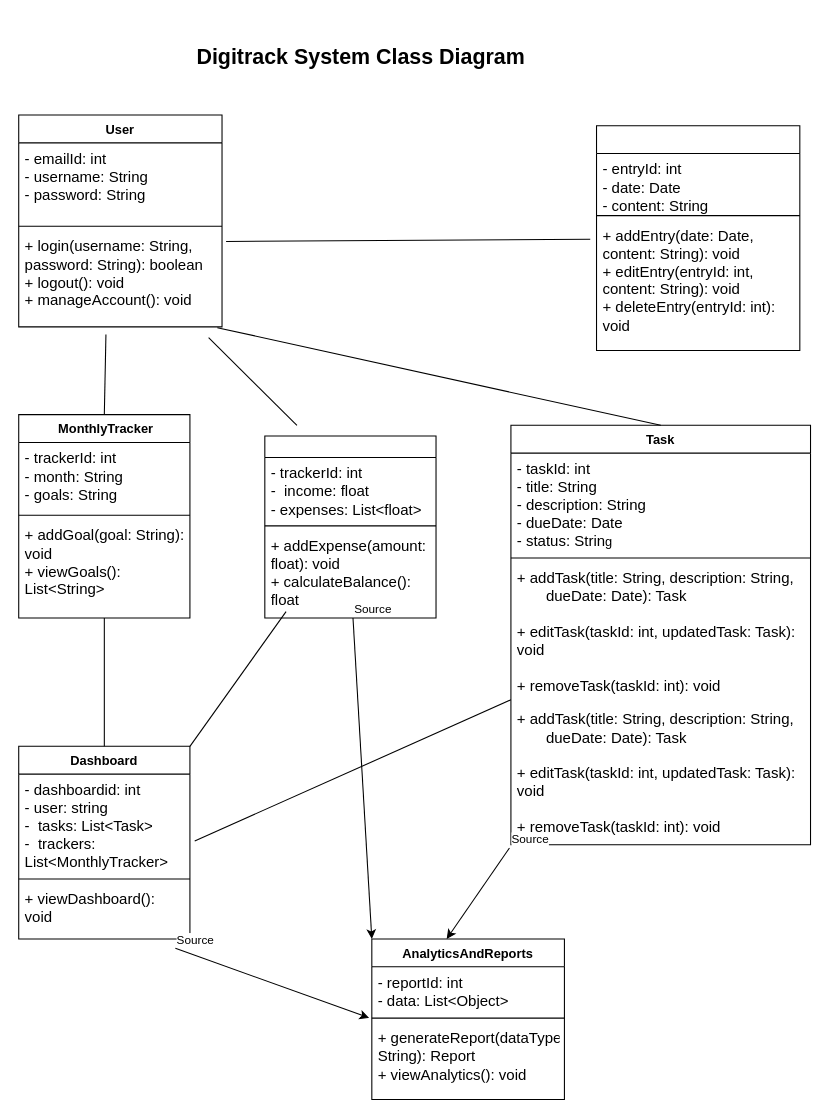
Image size: 829x1120. Some labels were removed from this diagram. Each missing label, with the box of its shape:
FinancialTracker: (264, 435, 436, 618)
Journal: (595, 125, 800, 350)
